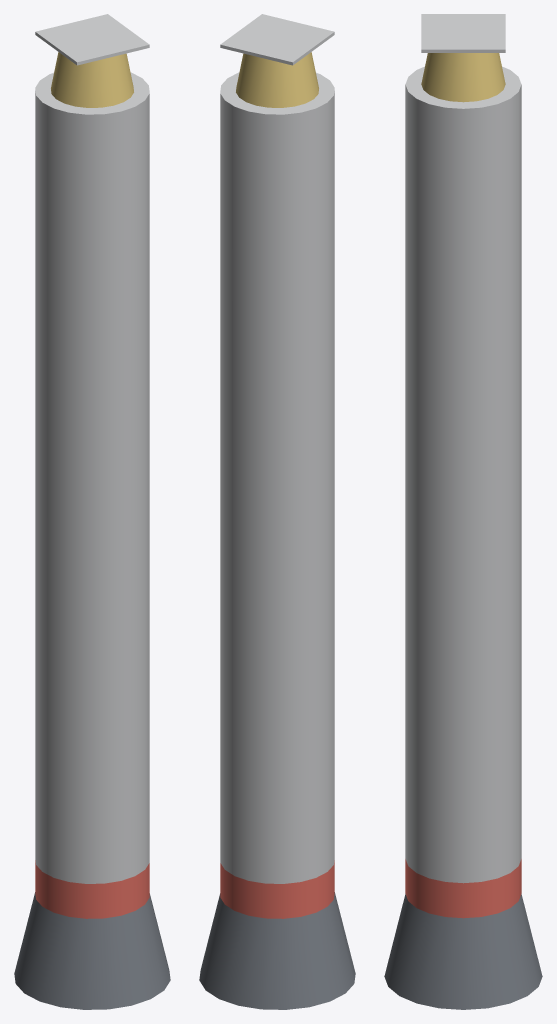
File: spacecraft.glb
The picture shows the model from 3 angles, left to right: view 1: azimuth 30°, elevation 25°; view 2: azimuth 150°, elevation 25°; view 3: azimuth 270°, elevation 25°; orthographic projection.
Visible parts, largest first — view 1: 芯级, 尾裙, 红色环带, 设备舱, 对接环; view 2: 芯级, 尾裙, 红色环带, 设备舱, 对接环; view 3: 芯级, 尾裙, 红色环带, 设备舱, 对接环.
Boxes of the visible parts, bbox=[...] form: 芯级: bbox=[35, 72, 149, 883]; 尾裙: bbox=[14, 892, 170, 1009]; 红色环带: bbox=[35, 860, 149, 918]; 设备舱: bbox=[51, 52, 133, 107]; 对接环: bbox=[35, 14, 149, 65]; 芯级: bbox=[220, 72, 334, 883]; 尾裙: bbox=[199, 892, 355, 1009]; 红色环带: bbox=[220, 860, 334, 918]; 设备舱: bbox=[236, 52, 318, 107]; 对接环: bbox=[220, 14, 334, 65]; 芯级: bbox=[405, 66, 521, 883]; 尾裙: bbox=[384, 894, 542, 1009]; 红色环带: bbox=[405, 859, 521, 918]; 设备舱: bbox=[421, 53, 505, 102]; 对接环: bbox=[421, 14, 505, 52].
Size of the model in its own units: 4.5 by 29.65 by 4.5.
